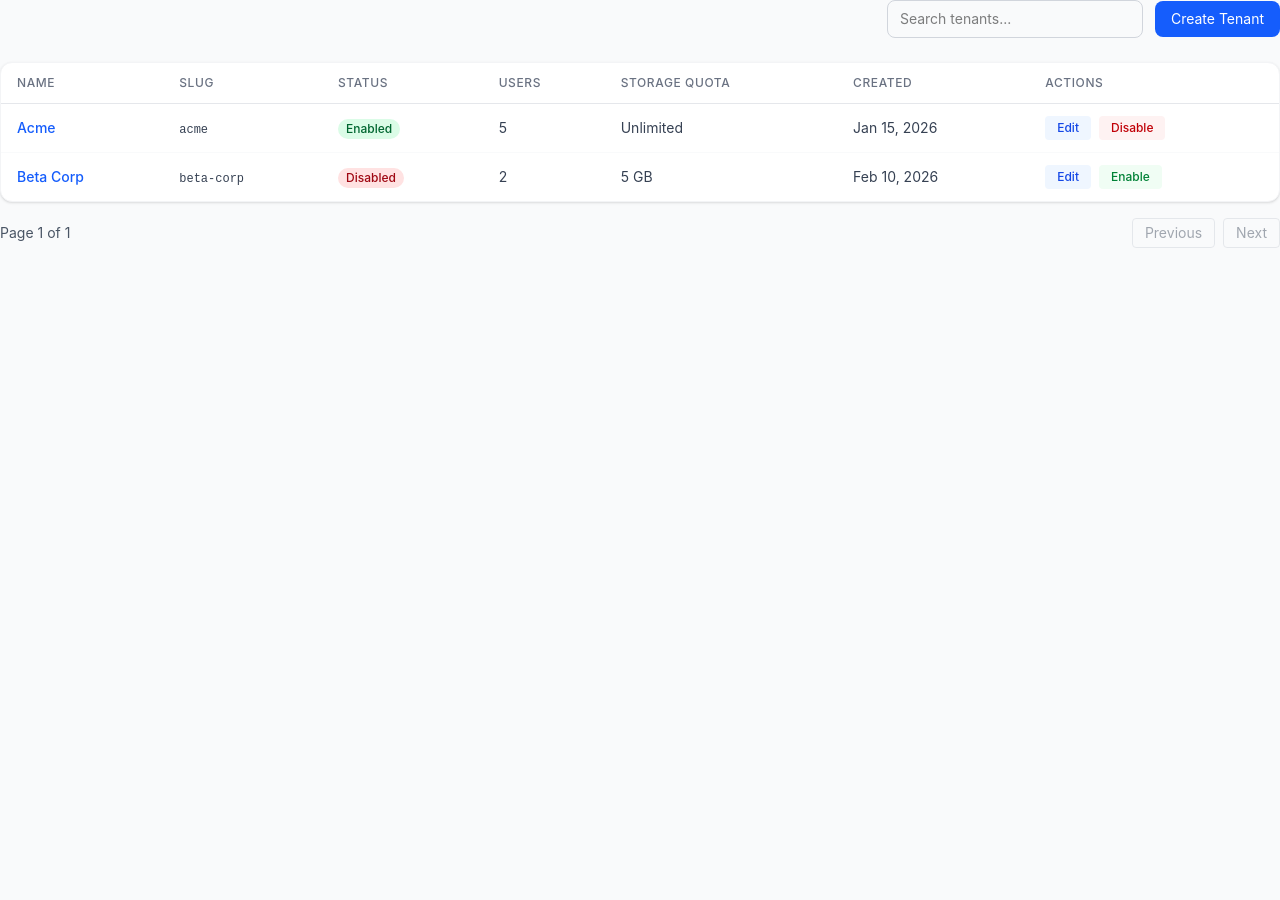
it: TenantsPage › opens edit dialog when Edit button is clicked
Click the button "Edit" in the row of "Enabled" at point(1068, 128), box [1045,116,1091,140]
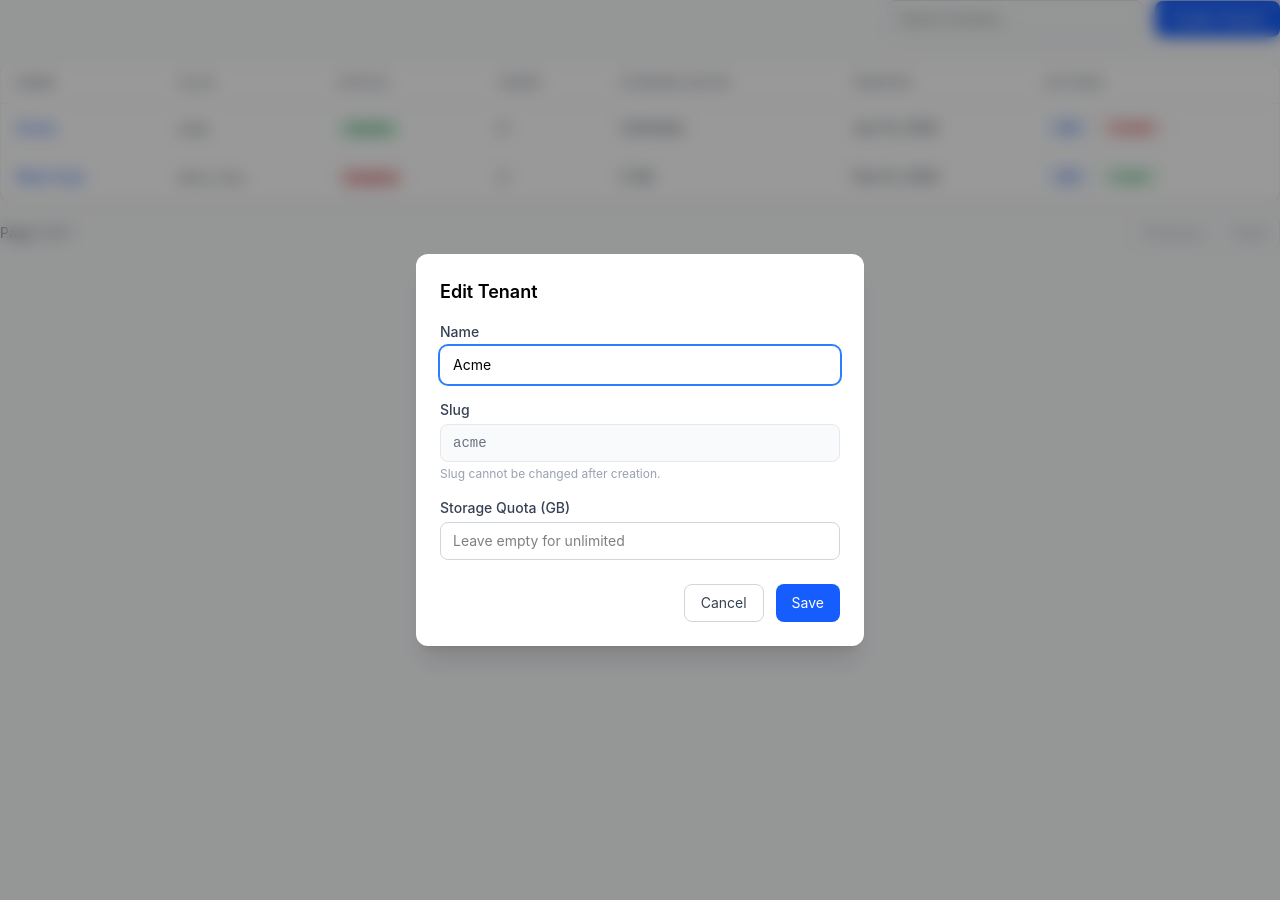
Expected: the heading "Edit Tenant" is shown, [440,281,538,302]
